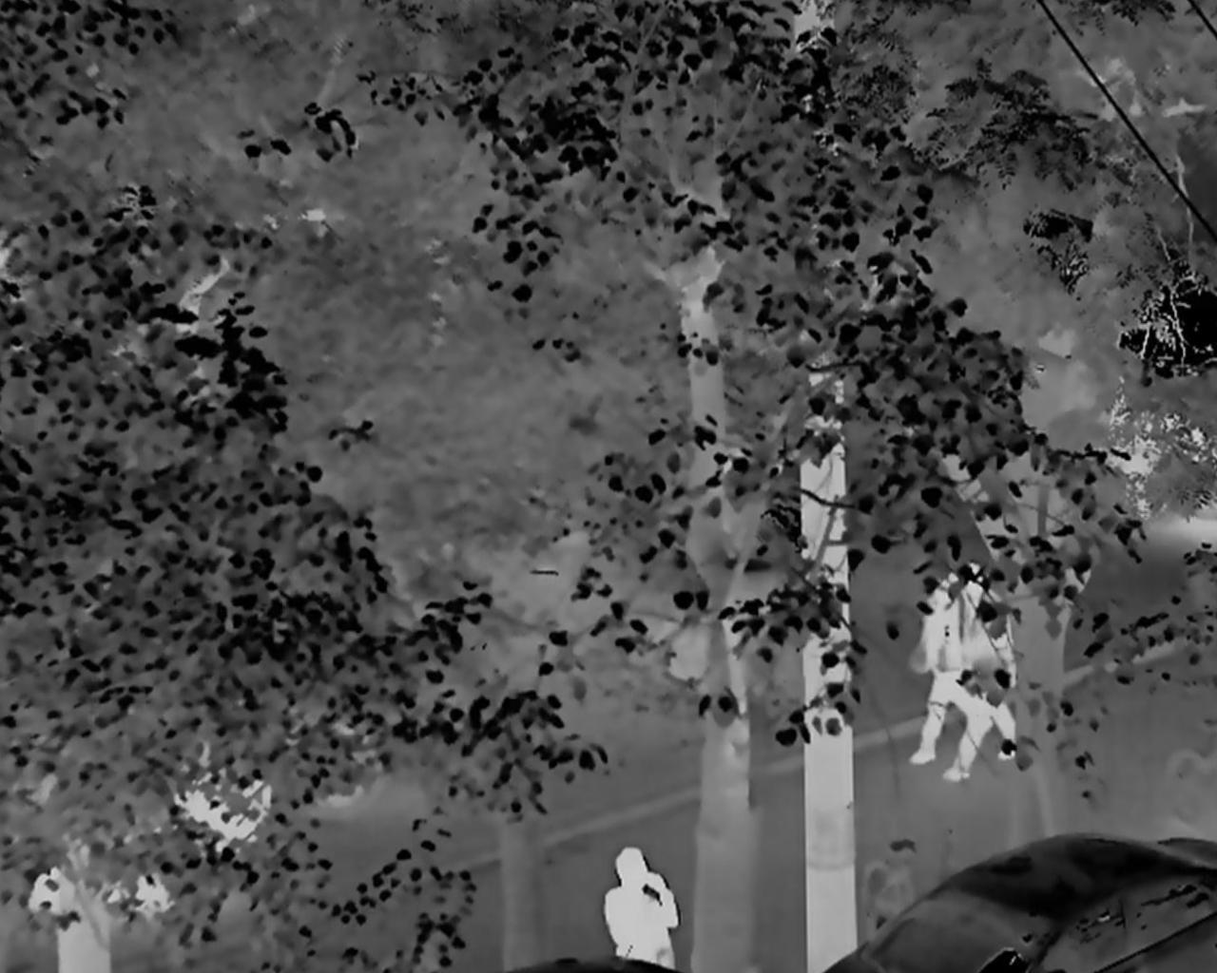person: (953, 580, 1018, 787), (918, 567, 975, 773), (602, 848, 678, 973)
